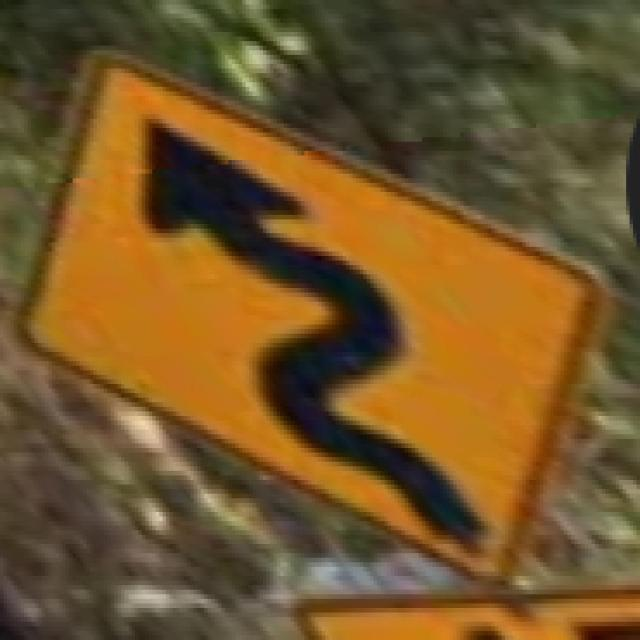Banyak Tikungan Pertama Kiri: (10, 32, 609, 594)
